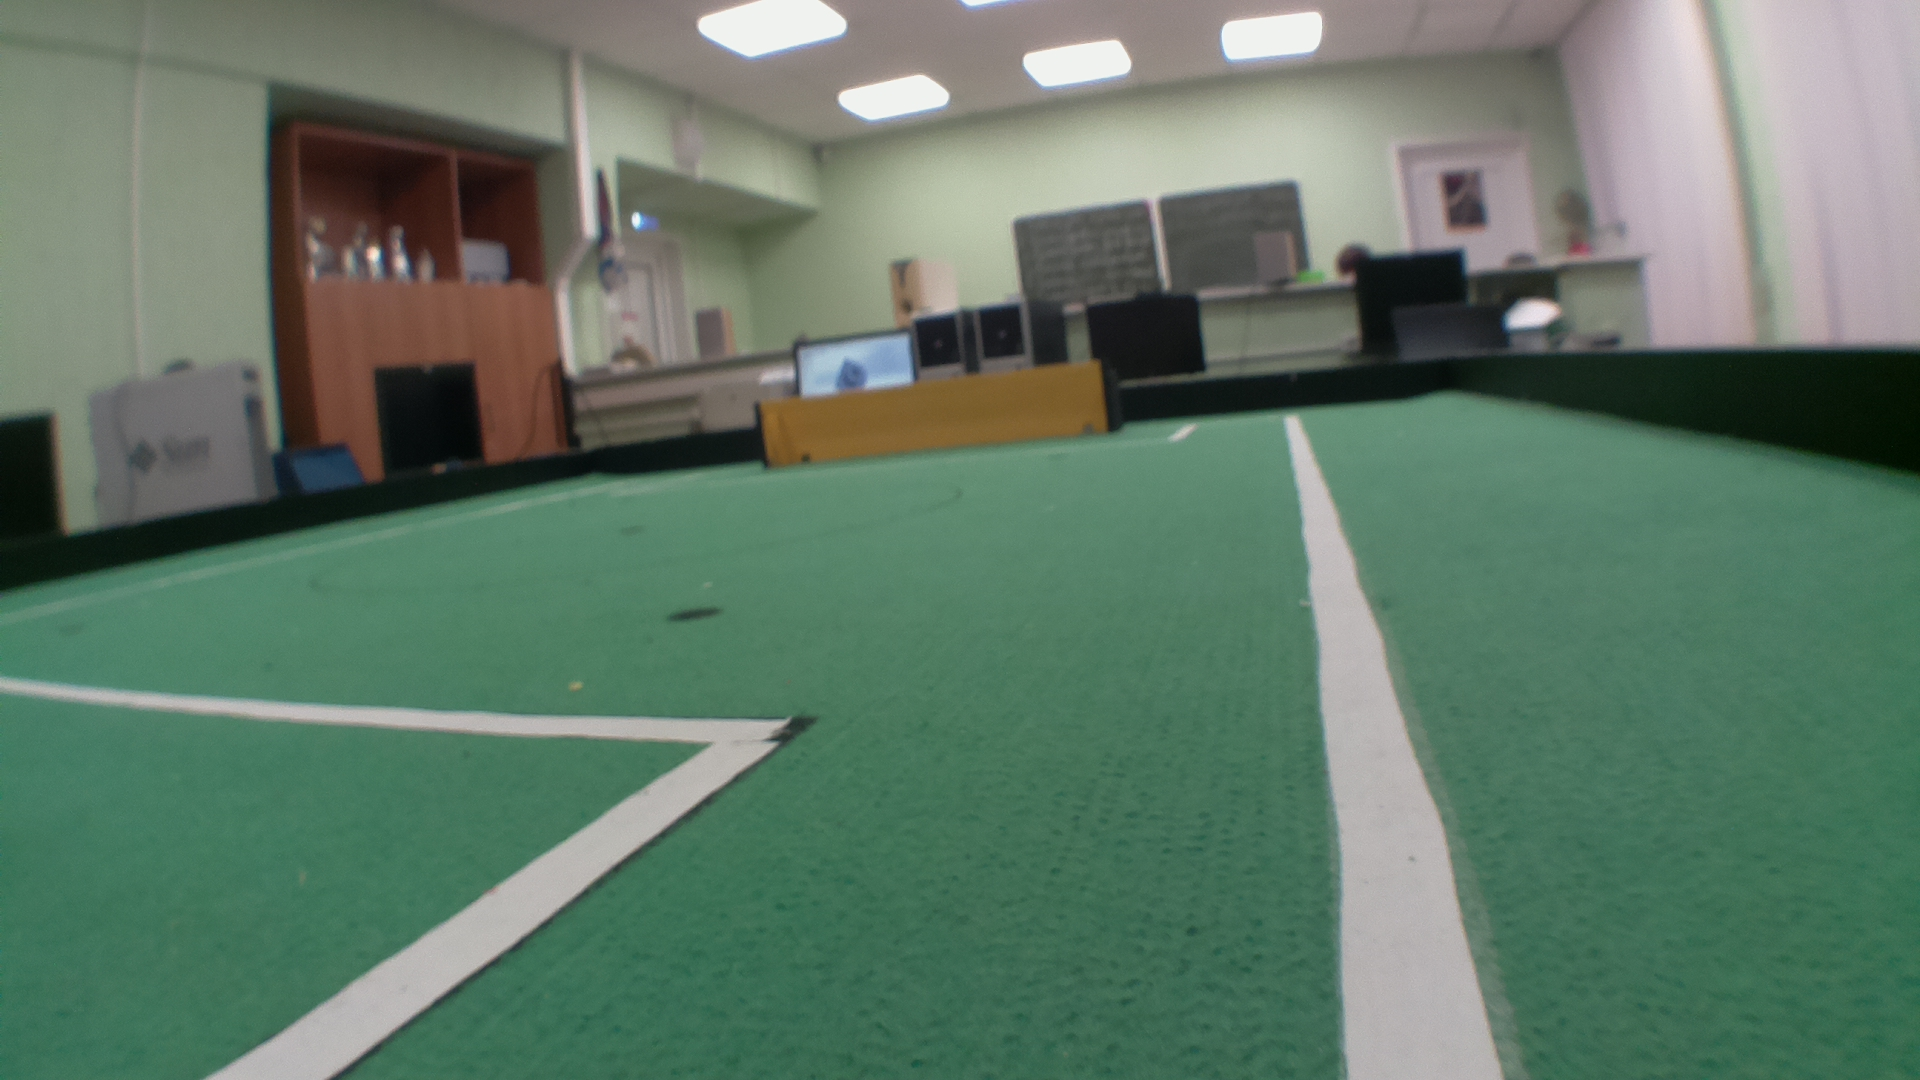YellowGoal: (760, 363, 1105, 469)
